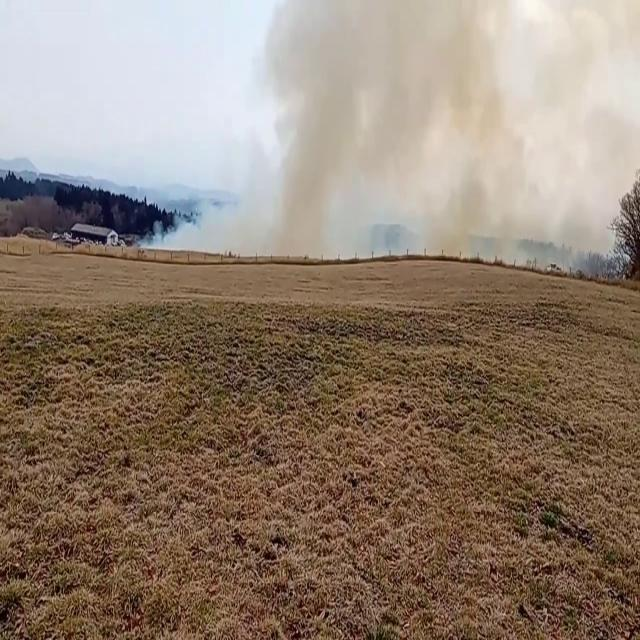Smoke: (144, 1, 630, 264)
